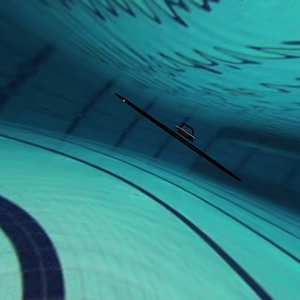circle: (103, 77, 252, 198)
